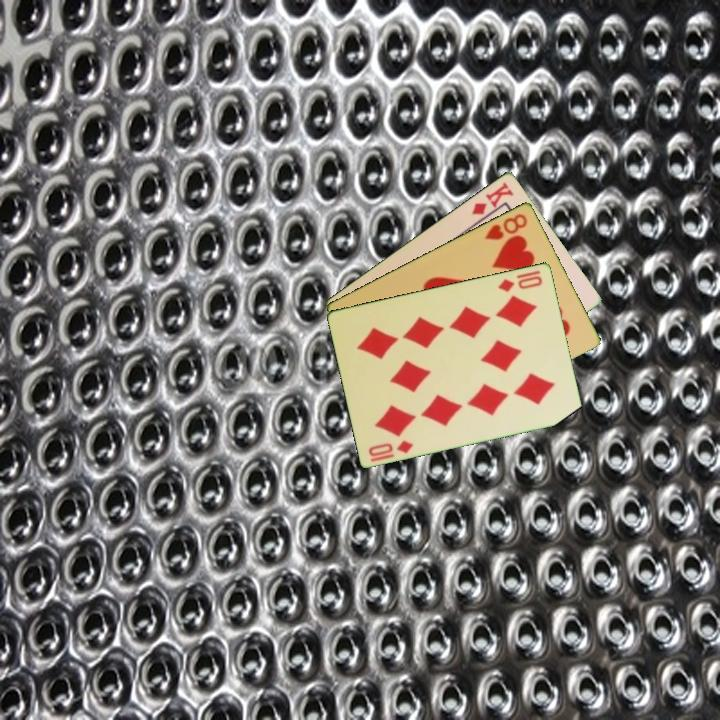10d: (365, 436, 417, 459), (495, 272, 545, 295)
8h: (481, 210, 530, 243)
Kd: (468, 178, 517, 217)
